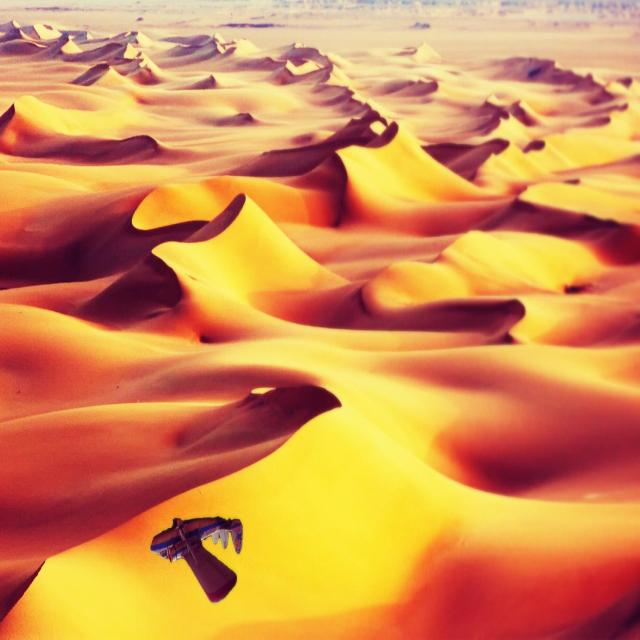airplane: (150, 514, 243, 604)
